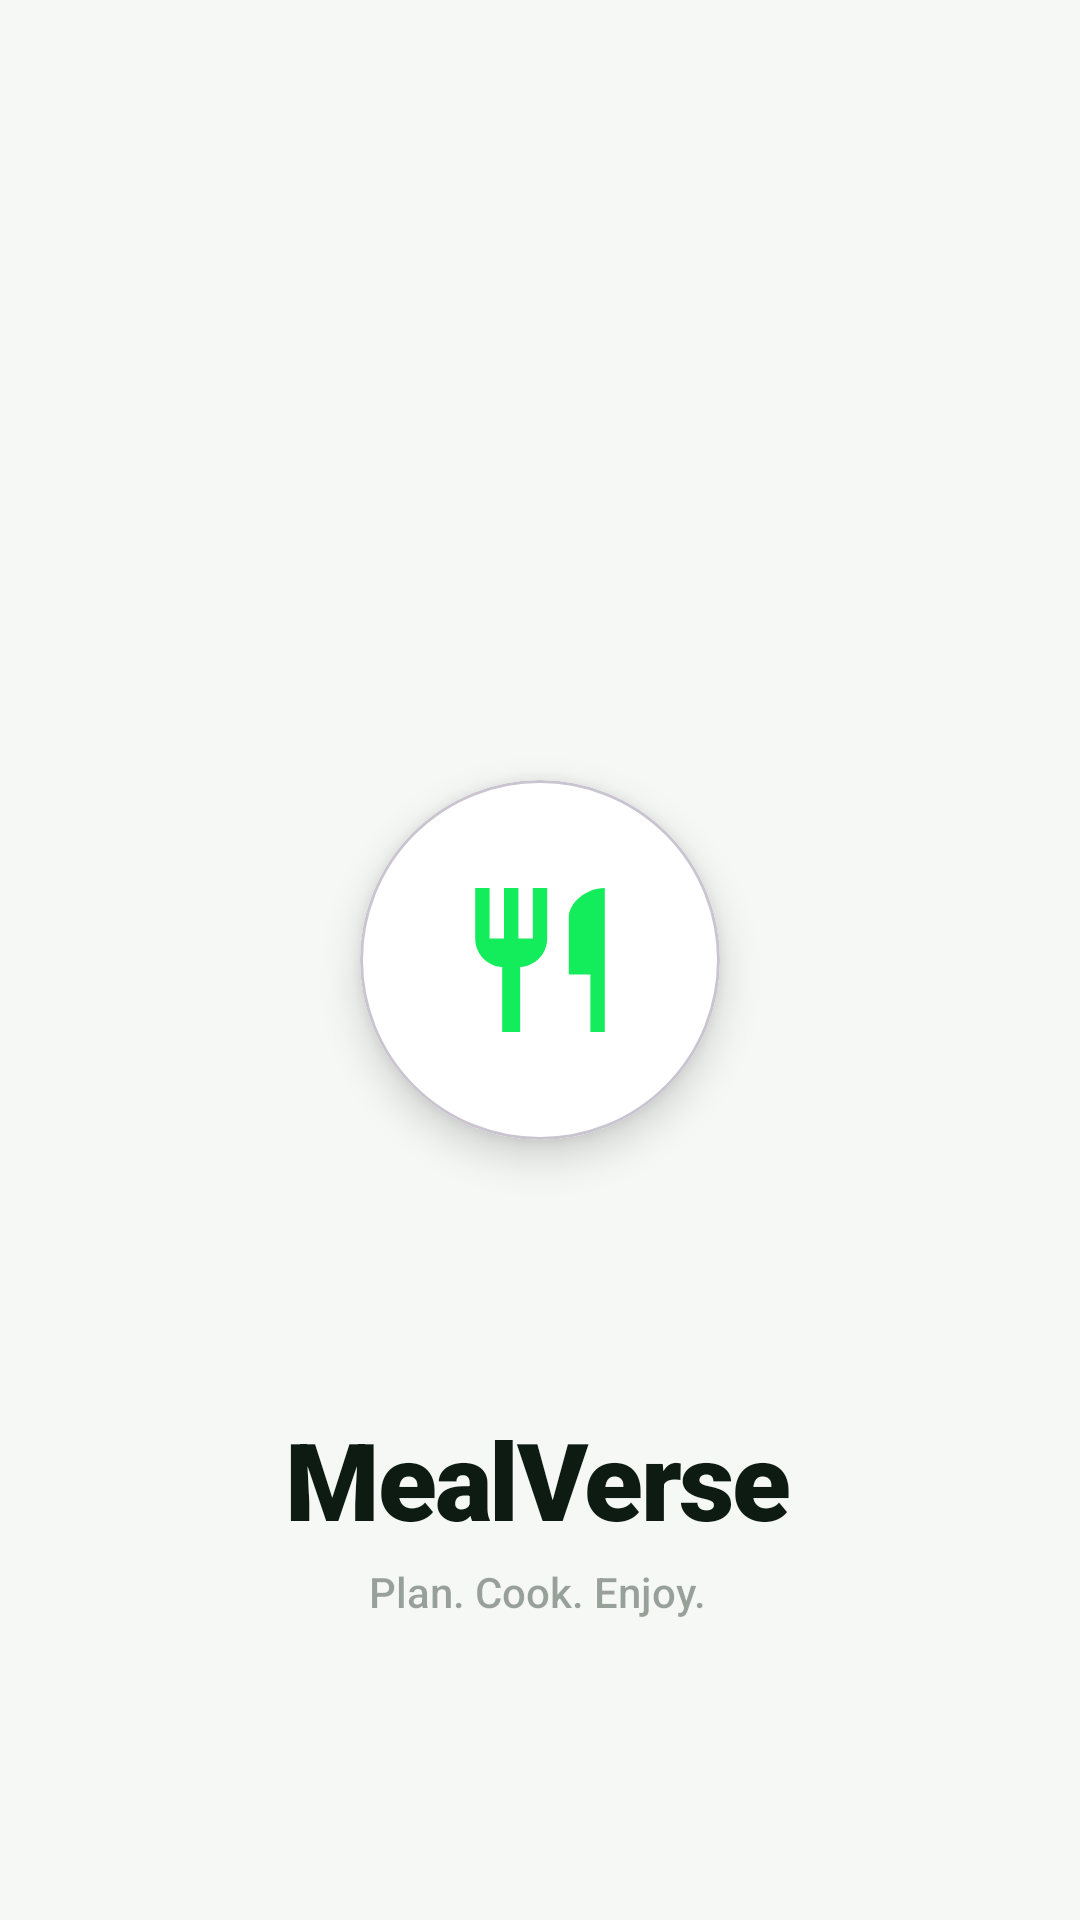

Where to tap for icons on this 1080px x 1920px app screen, as [x,y]:
restaurant menu: [540,960]
